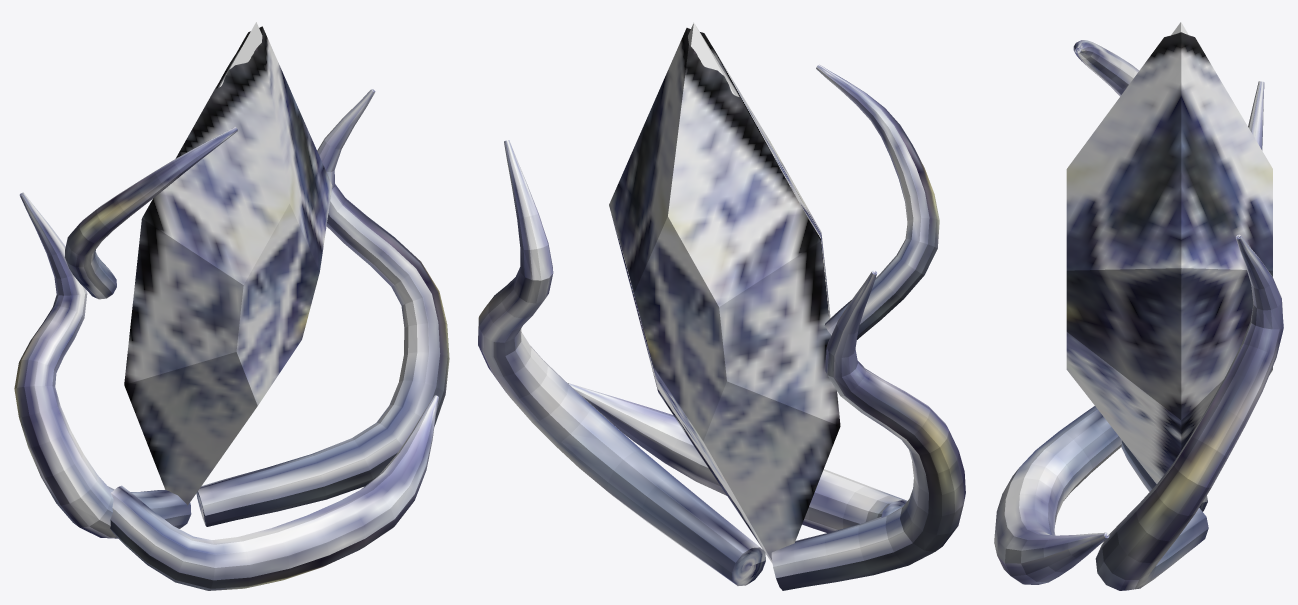
The model's file is wind.obj.
The picture shows the model from 3 angles, left to right: view 1: azimuth 30°, elevation 25°; view 2: azimuth 150°, elevation 25°; view 3: azimuth 270°, elevation 25°; orthographic projection. The views are drawn at different scales.
Parts seen in each view (by area): view 1: central_crystal, right_whorl, front_whorl, left_whorl, upper_whorl, central_crystal_core; view 2: central_crystal, right_whorl, left_whorl, front_whorl, upper_whorl, central_crystal_core; view 3: central_crystal, right_whorl, front_whorl, upper_whorl, left_whorl.
Part boxes in pixels (x1,y1,x2,y2): central_crystal: [124, 26, 332, 505]; right_whorl: [196, 89, 449, 526]; front_whorl: [110, 395, 438, 590]; left_whorl: [14, 192, 191, 538]; upper_whorl: [64, 127, 237, 299]; central_crystal_core: [219, 22, 262, 87]; central_crystal: [609, 28, 840, 563]; right_whorl: [478, 140, 765, 585]; left_whorl: [771, 270, 965, 590]; front_whorl: [568, 383, 907, 532]; upper_whorl: [816, 64, 939, 339]; central_crystal_core: [688, 23, 738, 96]; central_crystal: [1066, 32, 1272, 483]; right_whorl: [1095, 234, 1283, 590]; front_whorl: [994, 406, 1121, 584]; upper_whorl: [1073, 40, 1138, 96]; left_whorl: [1121, 81, 1264, 511].
Size of the model in its own units: 97.67 by 111 by 51.81.
Materials: 1 (1 with a texture image).
